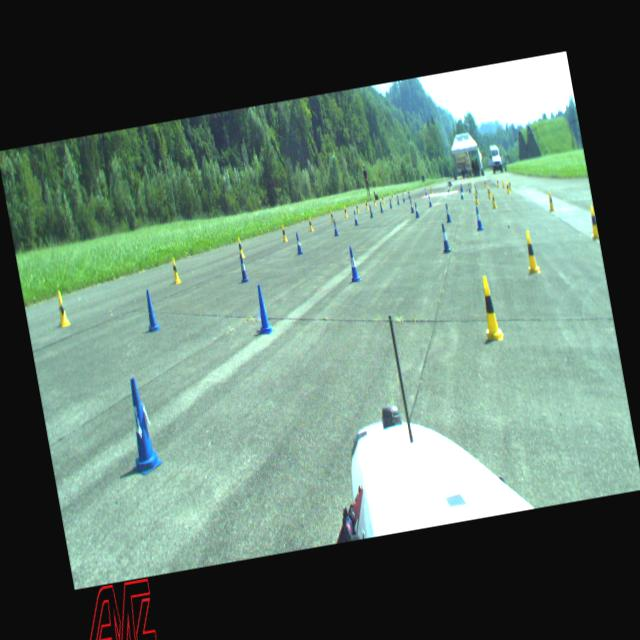blue_cone: (120, 375, 163, 475), (252, 284, 272, 332), (142, 288, 160, 332), (346, 245, 361, 282), (438, 222, 451, 252), (236, 253, 248, 282), (473, 205, 483, 230), (294, 231, 302, 254), (443, 202, 451, 222), (413, 202, 420, 218), (332, 218, 338, 235), (352, 209, 358, 225), (378, 200, 384, 212), (458, 187, 464, 199), (409, 199, 414, 212), (368, 204, 373, 217), (427, 194, 432, 206), (395, 194, 399, 205), (388, 197, 392, 208), (467, 182, 471, 192), (401, 192, 405, 201), (474, 183, 477, 194), (446, 184, 449, 192), (408, 190, 410, 198), (424, 187, 426, 195)
yellow_cone: (476, 274, 504, 342), (521, 230, 539, 272), (54, 290, 70, 326), (587, 204, 599, 239), (170, 256, 180, 284), (236, 236, 245, 258), (546, 190, 555, 211), (280, 224, 288, 242), (489, 190, 496, 208), (307, 216, 313, 232), (473, 189, 479, 204), (486, 185, 491, 198), (329, 210, 334, 222), (343, 206, 348, 217), (355, 202, 359, 213), (506, 181, 510, 192), (364, 198, 368, 208), (500, 178, 504, 188), (508, 179, 512, 189), (495, 177, 499, 186), (372, 197, 376, 206), (391, 191, 394, 200), (483, 178, 486, 186), (381, 195, 384, 202), (429, 185, 432, 192)
